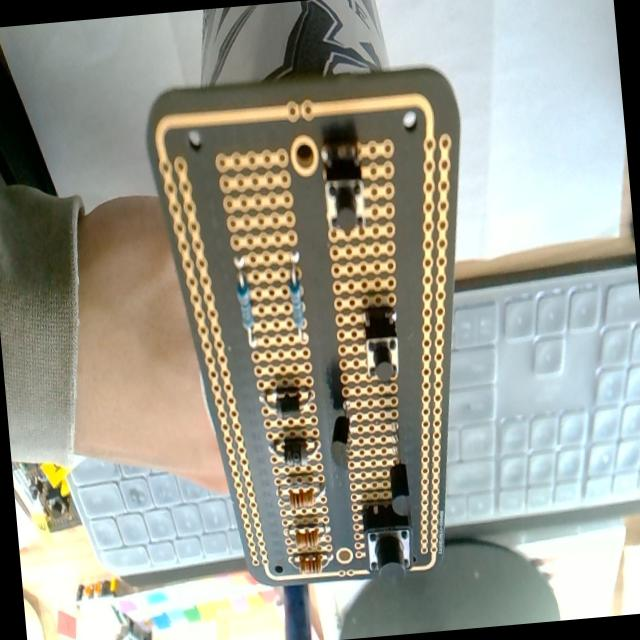diode: (262, 384, 315, 420), (271, 435, 319, 469)
resistor: (232, 252, 258, 349), (284, 248, 308, 337), (285, 520, 330, 552), (280, 481, 324, 511), (291, 550, 329, 574)
switch: (319, 142, 369, 238), (360, 500, 414, 583), (360, 304, 402, 386)
transistor: (380, 422, 414, 526), (326, 412, 354, 468)
